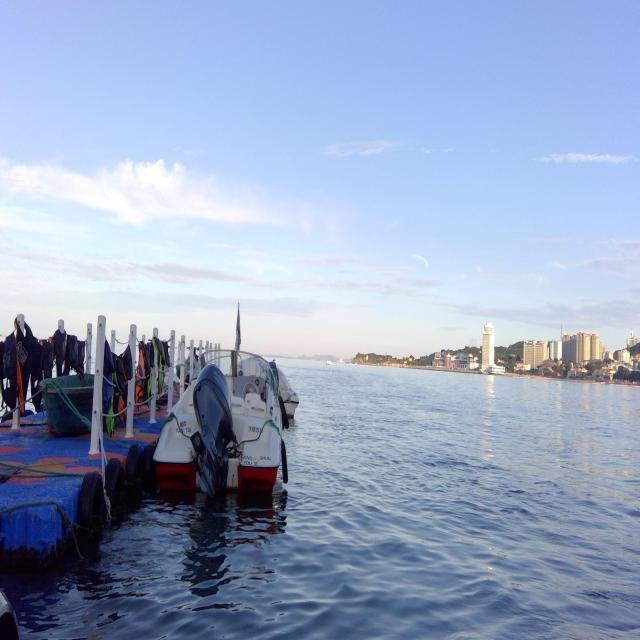CIV_Ship: (150, 308, 291, 508)
